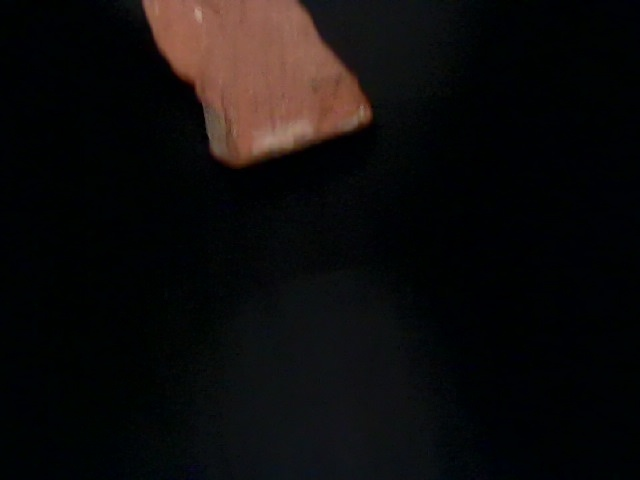KHSLJ: (117, 1, 596, 198)
